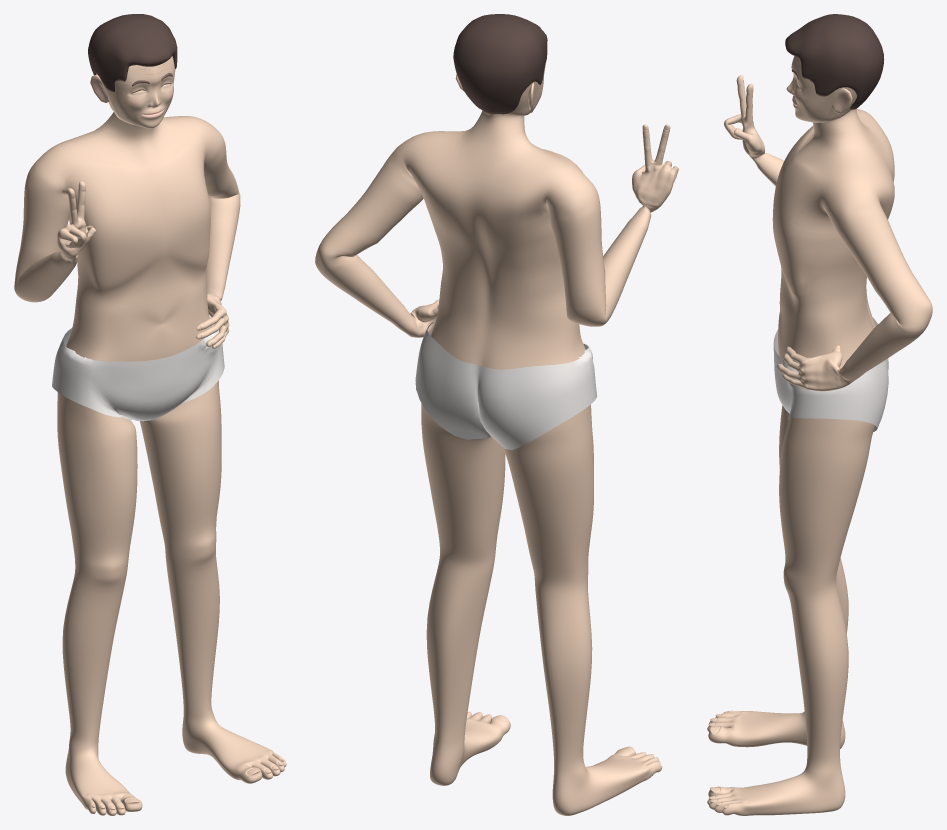
Rendered from human.glb.
The picture shows the model from 3 angles, left to right: view 1: azimuth 30°, elevation 25°; view 2: azimuth 150°, elevation 25°; view 3: azimuth 270°, elevation 25°; orthographic projection. The views are drawn at different scales.
Visible parts, largest first — view 1: Body; view 2: Body; view 3: Body.
Part boxes in pixels (x1=…): Body: x1=14, y1=14, x2=286, y2=815; Body: x1=315, y1=14, x2=678, y2=815; Body: x1=707, y1=14, x2=932, y2=815.
Bounding box in the file's own units: 0.5708 × 1.56 × 0.4197.
Materials: 1 (1 with a texture image).
